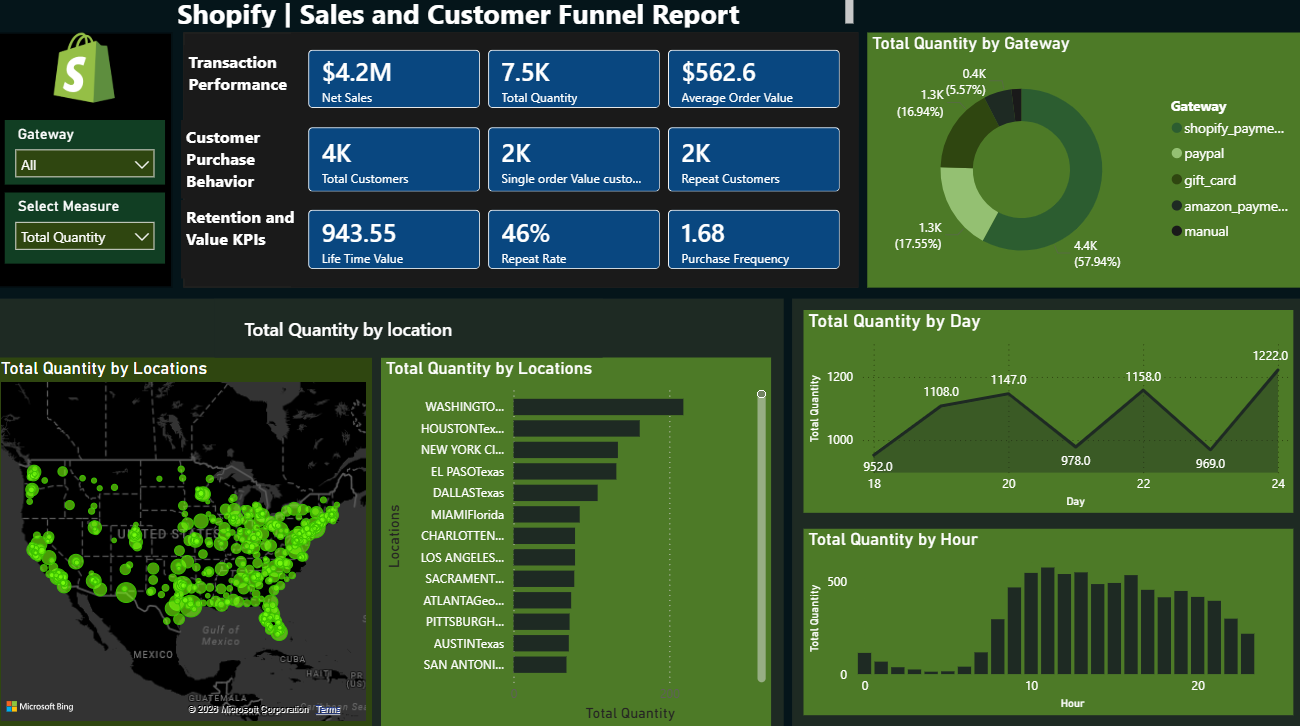

Layout of this report page (visuals, bound fields, positions):
{"tool":"powerbi","page":{"name":"Page 1","canvas":[1280,720],"ordinal":0},"visuals":[{"type":"shape","box":[0,302,770.4,418.2],"z":0},{"type":"textbox","box":[172.4,0,671.3,41.6],"z":1000},{"type":"shape","box":[0,41.6,172.4,249.5],"z":2000},{"type":"shape","box":[183.4,41.6,660.3,249.5],"z":3000},{"type":"cardVisual","fields":{"Data":["shopify_sales.Net Sales","shopify_sales.Total Quantity","shopify_sales.Average Order Value"]},"box":[288.6,41.6,555.2,91.7],"z":4000},{"type":"textbox","box":[183.4,53.8,116.2,77],"z":5000},{"type":"cardVisual","fields":{"Data":["shopify_sales.Total Customers","shopify_sales.Single order Value customers","shopify_sales.Repeat Customers"]},"box":[288.6,117.4,555.2,97.8],"z":6000},{"type":"textbox","box":[181,127.2,122.3,77],"z":7000},{"type":"cardVisual","fields":{"Data":["shopify_sales.Life Time Value","shopify_sales.Repeat Rate","shopify_sales.Purchase Frequency"]},"box":[288.6,198.1,555.2,92.9],"z":8000},{"type":"textbox","box":[181,205.4,122.3,77],"z":9000},{"type":"slicer","fields":{"Values":["Select Measure.Select Measure"]},"box":[8.6,198.1,156.5,69.7],"z":10000},{"type":"map","fields":{"Size":["shopify_sales.Total Quantity"],"Category":["shopify_sales.Locations"]},"box":[0,359.5,366.8,360.7],"z":11000},{"type":"clusteredBarChart","fields":{"Y":["shopify_sales.Total Quantity"],"Category":["shopify_sales.Locations"]},"box":[376.6,359.5,381.5,360.7],"z":12000},{"type":"cardVisual","fields":{"Data":["Select Measure.Locations title"]},"box":[214,302,379.1,57.5],"z":13000},{"type":"shape","box":[778.9,302,501.4,418.2],"z":14000},{"type":"areaChart","fields":{"Y":["shopify_sales.Total Quantity"],"Category":["shopify_sales.Invoice Date.Variation.Date Hierarchy.Day"]},"box":[789.9,313,479.4,198.1],"z":15000},{"type":"columnChart","fields":{"Y":["shopify_sales.Total Quantity"],"Category":["shopify_sales.Hour"]},"box":[789.9,527,479.4,182.2],"z":16000},{"type":"donutChart","fields":{"Y":["shopify_sales.Total Quantity"],"Category":["shopify_sales.Gateway"]},"box":[852.3,41.6,428,249.5],"z":17000},{"type":"slicer","fields":{"Values":["shopify_sales.Gateway"]},"box":[8.6,127.2,156.5,63.6],"z":18000},{"type":"image","box":[19.6,41.6,133.3,68.5],"z":19000}]}

Visuals, with their boxes in screenshot pixels (x1, y1, x2, y2), scaled from the page's 1280x720 canvas onto the 1300x726 screenshot:
shape: {"x1": 0, "y1": 305, "x2": 782, "y2": 725}
textbox: {"x1": 175, "y1": 0, "x2": 857, "y2": 42}
shape: {"x1": 0, "y1": 42, "x2": 175, "y2": 294}
shape: {"x1": 186, "y1": 42, "x2": 857, "y2": 294}
cardVisual - shopify_sales.Net Sales x shopify_sales.Total Quantity: {"x1": 293, "y1": 42, "x2": 857, "y2": 134}
textbox: {"x1": 186, "y1": 54, "x2": 304, "y2": 132}
cardVisual - shopify_sales.Total Customers x shopify_sales.Single order Value customers: {"x1": 293, "y1": 118, "x2": 857, "y2": 217}
textbox: {"x1": 184, "y1": 128, "x2": 308, "y2": 206}
cardVisual - shopify_sales.Life Time Value x shopify_sales.Repeat Rate: {"x1": 293, "y1": 200, "x2": 857, "y2": 293}
textbox: {"x1": 184, "y1": 207, "x2": 308, "y2": 285}
slicer - Select Measure.Select Measure: {"x1": 9, "y1": 200, "x2": 168, "y2": 270}
map - shopify_sales.Total Quantity x shopify_sales.Locations: {"x1": 0, "y1": 362, "x2": 373, "y2": 725}
clusteredBarChart - shopify_sales.Total Quantity x shopify_sales.Locations: {"x1": 382, "y1": 362, "x2": 770, "y2": 725}
cardVisual - Select Measure.Locations title: {"x1": 217, "y1": 305, "x2": 602, "y2": 362}
shape: {"x1": 791, "y1": 305, "x2": 1299, "y2": 725}
areaChart - shopify_sales.Total Quantity x shopify_sales.Invoice Date.Variation.Date Hierarchy.Day: {"x1": 802, "y1": 316, "x2": 1289, "y2": 515}
columnChart - shopify_sales.Total Quantity x shopify_sales.Hour: {"x1": 802, "y1": 531, "x2": 1289, "y2": 715}
donutChart - shopify_sales.Total Quantity x shopify_sales.Gateway: {"x1": 866, "y1": 42, "x2": 1299, "y2": 294}
slicer - shopify_sales.Gateway: {"x1": 9, "y1": 128, "x2": 168, "y2": 192}
image: {"x1": 20, "y1": 42, "x2": 155, "y2": 111}
